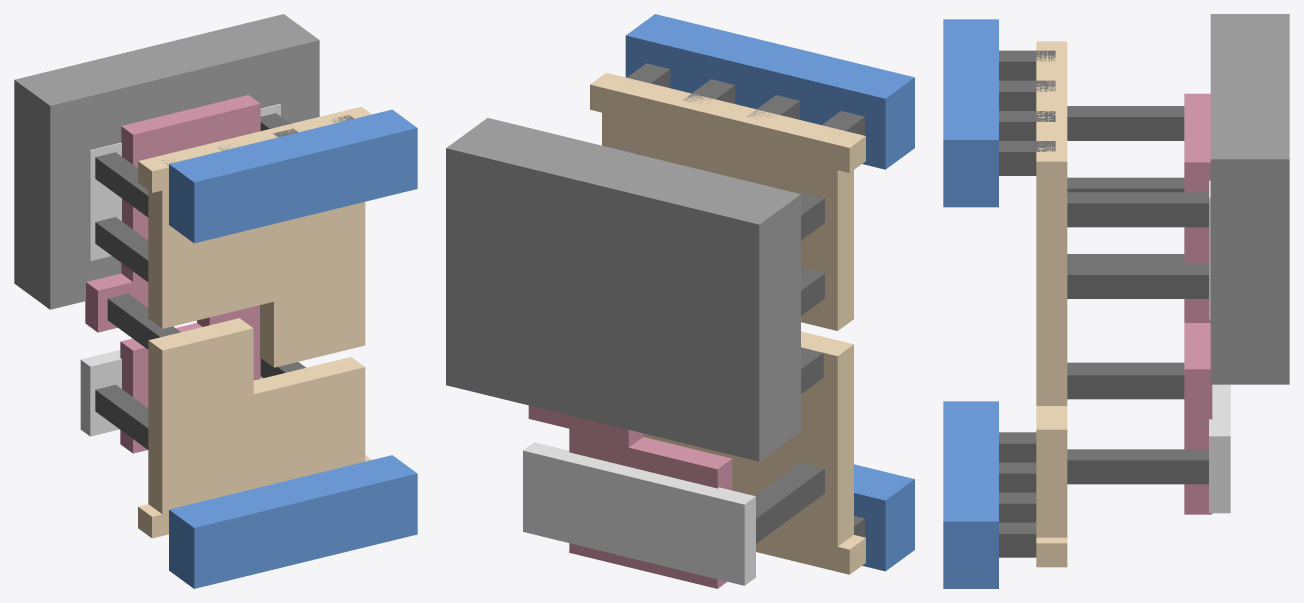
The model's file is sky130_fd_sc_hd__decap_4.gds.gltf.
The picture shows the model from 3 angles, left to right: view 1: azimuth 30°, elevation 25°; view 2: azimuth 150°, elevation 25°; view 3: azimuth 270°, elevation 25°; orthographic projection. The views are drawn at different scales.
Visible parts, largest first — view 1: sky130_fd_sc_hd__decap_4_li1, sky130_fd_sc_hd__decap_4_met1, sky130_fd_sc_hd__decap_4_nwell, sky130_fd_sc_hd__decap_4_poly, sky130_fd_sc_hd__decap_4_licon, sky130_fd_sc_hd__decap_4_diff; view 2: sky130_fd_sc_hd__decap_4_nwell, sky130_fd_sc_hd__decap_4_li1, sky130_fd_sc_hd__decap_4_met1, sky130_fd_sc_hd__decap_4_diff, sky130_fd_sc_hd__decap_4_poly, sky130_fd_sc_hd__decap_4_licon, sky130_fd_sc_hd__decap_4_mcon; view 3: sky130_fd_sc_hd__decap_4_nwell, sky130_fd_sc_hd__decap_4_licon, sky130_fd_sc_hd__decap_4_met1, sky130_fd_sc_hd__decap_4_li1, sky130_fd_sc_hd__decap_4_mcon, sky130_fd_sc_hd__decap_4_poly, sky130_fd_sc_hd__decap_4_diff.
Part boxes in pixels (x1,y1,x2,y2): sky130_fd_sc_hd__decap_4_li1: [138, 106, 371, 538]; sky130_fd_sc_hd__decap_4_met1: [169, 109, 417, 588]; sky130_fd_sc_hd__decap_4_nwell: [14, 14, 319, 309]; sky130_fd_sc_hd__decap_4_poly: [85, 95, 260, 453]; sky130_fd_sc_hd__decap_4_licon: [95, 113, 305, 449]; sky130_fd_sc_hd__decap_4_diff: [80, 104, 280, 436]; sky130_fd_sc_hd__decap_4_nwell: [446, 118, 800, 461]; sky130_fd_sc_hd__decap_4_li1: [590, 72, 865, 574]; sky130_fd_sc_hd__decap_4_met1: [625, 14, 914, 571]; sky130_fd_sc_hd__decap_4_diff: [523, 442, 755, 585]; sky130_fd_sc_hd__decap_4_poly: [528, 405, 732, 588]; sky130_fd_sc_hd__decap_4_licon: [561, 147, 824, 543]; sky130_fd_sc_hd__decap_4_mcon: [627, 63, 864, 537]; sky130_fd_sc_hd__decap_4_nwell: [1210, 14, 1289, 384]; sky130_fd_sc_hd__decap_4_licon: [1067, 106, 1208, 484]; sky130_fd_sc_hd__decap_4_met1: [943, 19, 998, 588]; sky130_fd_sc_hd__decap_4_li1: [1036, 41, 1067, 567]; sky130_fd_sc_hd__decap_4_mcon: [999, 50, 1055, 557]; sky130_fd_sc_hd__decap_4_poly: [1184, 93, 1212, 514]; sky130_fd_sc_hd__decap_4_diff: [1209, 180, 1230, 513].
Size of the model in its own units: 2.22 by 3.2 by 2.24.
